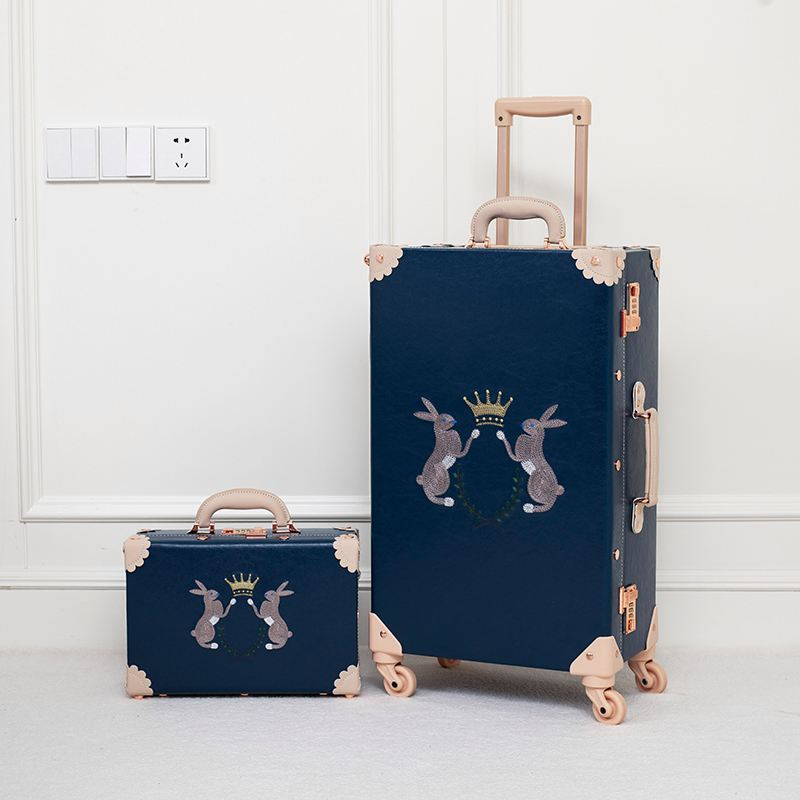box: (370, 243, 659, 676)
handle: (468, 195, 569, 250), (631, 380, 660, 534)
lock: (619, 583, 639, 635), (627, 280, 641, 333)
wheel: (589, 688, 627, 725), (628, 661, 668, 693), (383, 663, 417, 698)
